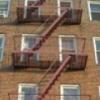stairs: (34, 54, 74, 100)
